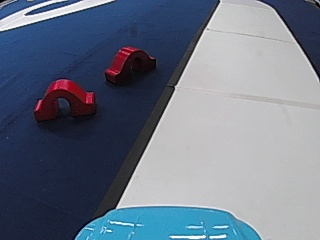bridge: (31, 75, 98, 121), (103, 42, 156, 86)
